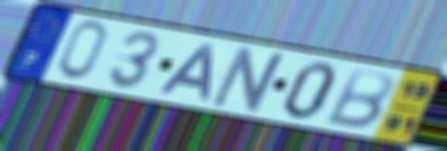0: (281, 60, 341, 121), (54, 19, 110, 83)
3: (104, 30, 164, 91)
A: (156, 43, 218, 103)
B: (321, 65, 397, 131)
N: (206, 45, 293, 117)
